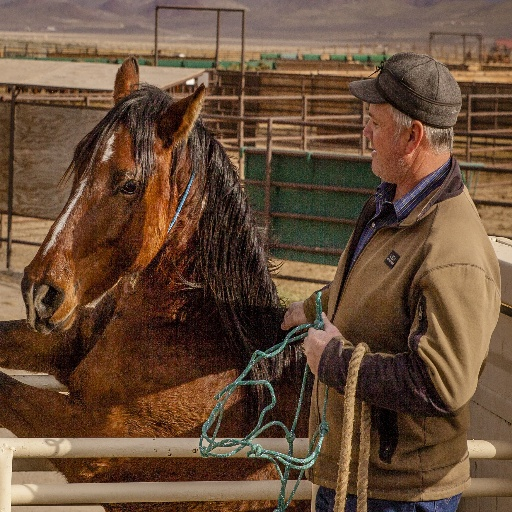hand: (296, 324, 345, 378), (278, 300, 309, 331)
